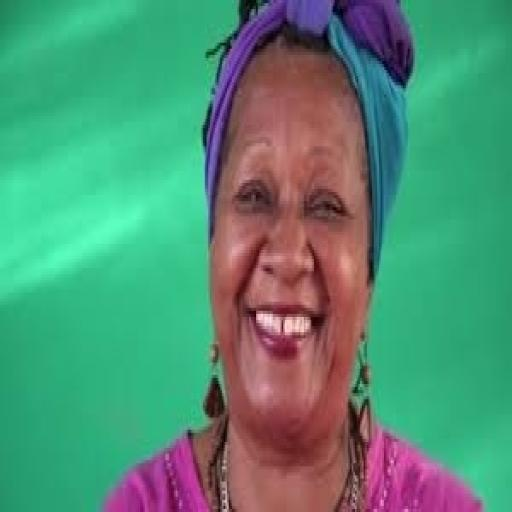laughing: (97, 3, 485, 506)
